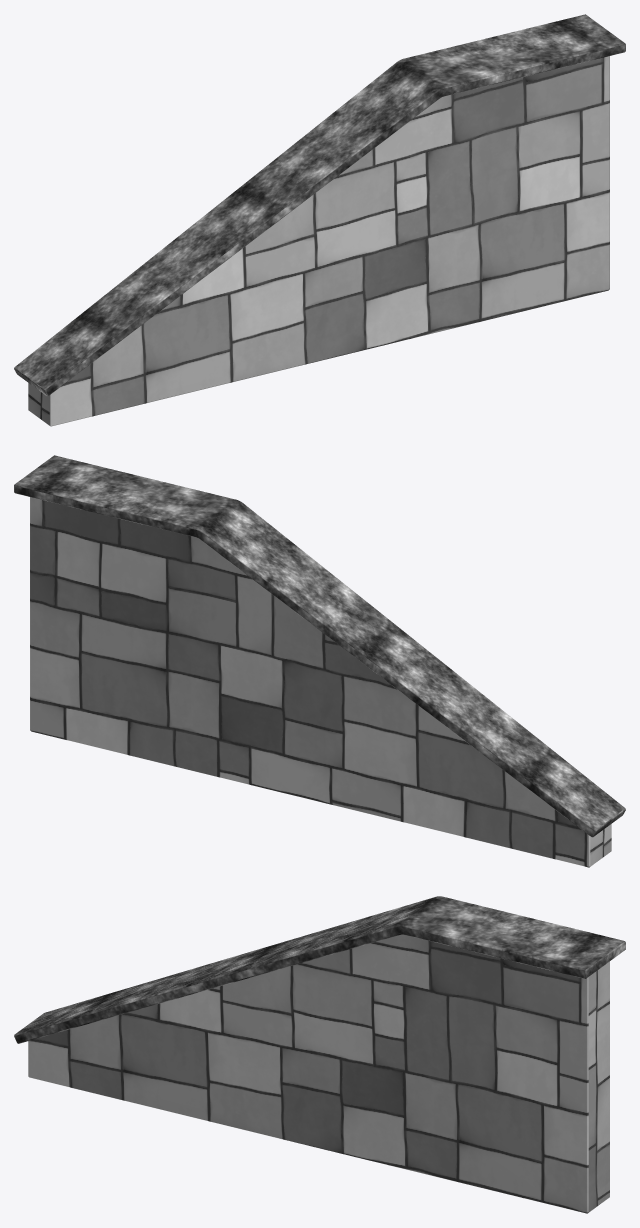
Rendered from SM_ladder_side_01.fbx.
The picture shows the model from 3 angles, top to bottom: view 1: azimuth 30°, elevation 25°; view 2: azimuth 150°, elevation 25°; view 3: azimuth 330°, elevation 25°; orthographic projection.
Parts seen in each view (by area): view 1: SM_ladder_side_01_LOD0; view 2: SM_ladder_side_01_LOD0; view 3: SM_ladder_side_01_LOD0.
Part boxes in pixels (x1=…): SM_ladder_side_01_LOD0: x1=14, y1=14, x2=625, y2=426; SM_ladder_side_01_LOD0: x1=14, y1=455, x2=625, y2=867; SM_ladder_side_01_LOD0: x1=14, y1=896, x2=625, y2=1213.
Bounding box in the file's own units: 1464 × 178 × 611.
